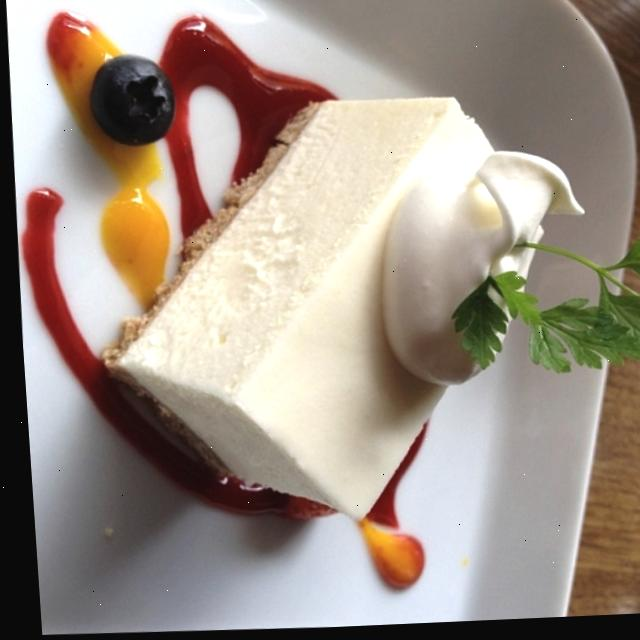豆腐料理: (2, 18, 640, 640)
